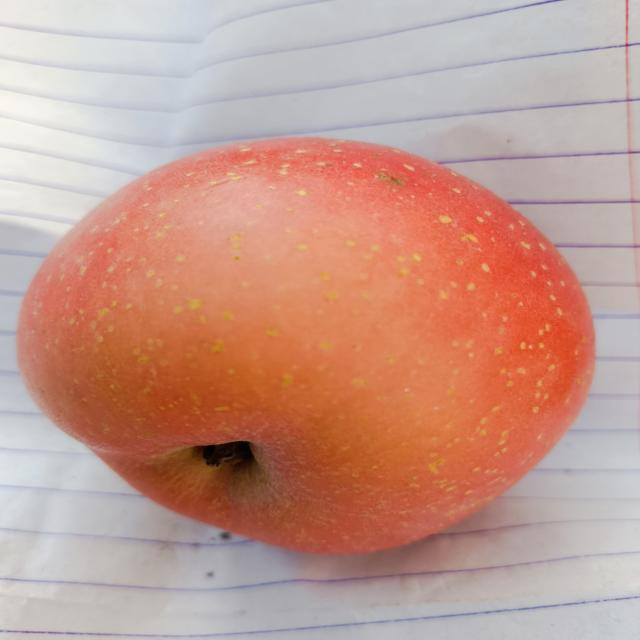Fresh Apple: (16, 132, 598, 560)
